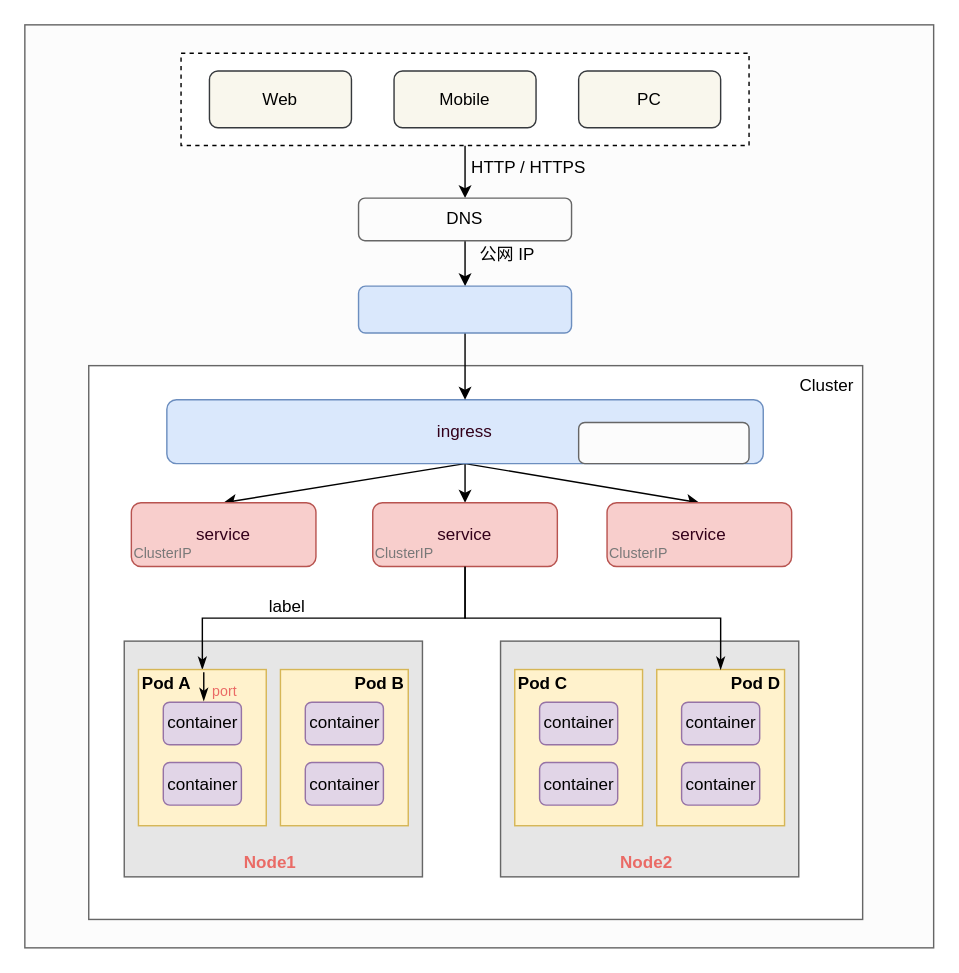
Image size: 959x973. Some labels were removed from this diagram. Each missing label, with the centre of its shape:
"ingress-controller" goes at pixel 663 442.
"Load Balancer" goes at pixel 464 309.
